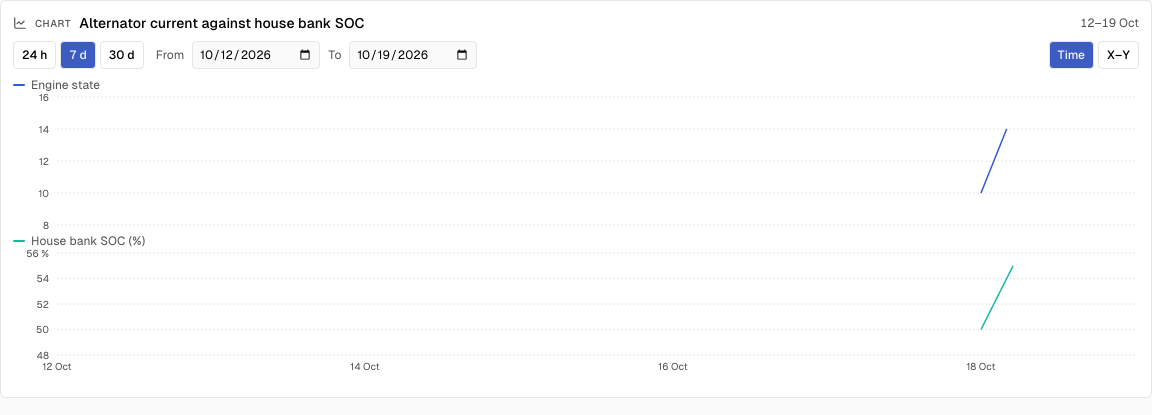
AssistantTelemetryChartCard › omits the parentheses when a series has no unit
The image size is (1152, 415).
Expected: the text "Engine state" is shown, [31,77,100,93]
Expected: the text "House bank SOC (%)" is shown, [31,233,145,249]
Click the button "X–Y" at (1119, 55), box [1098,41,1139,69]
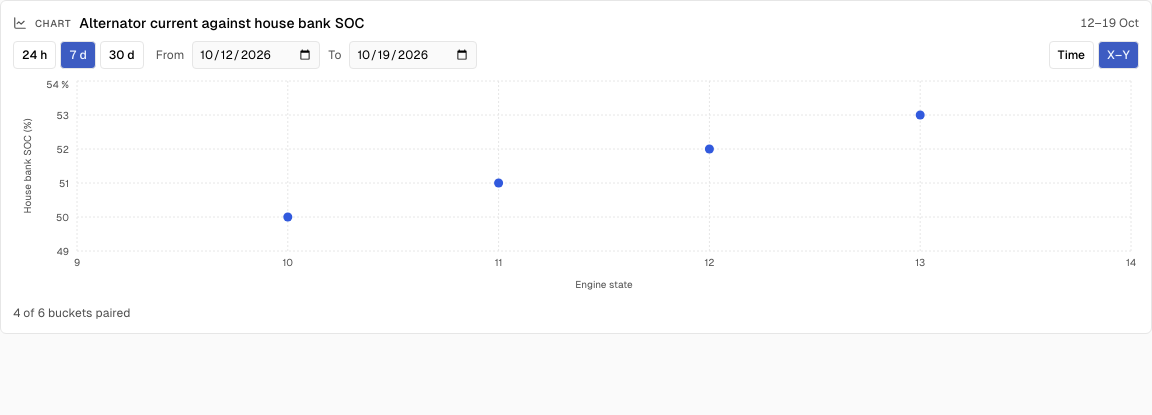
Expected: the text "4 of 6 buckets paired" is shown, [13,306,130,320]
